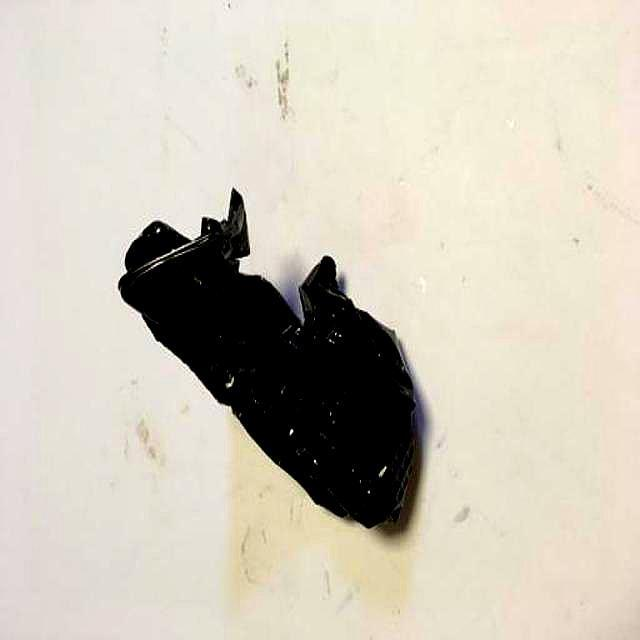Non-biodegradable: (117, 186, 427, 536)
